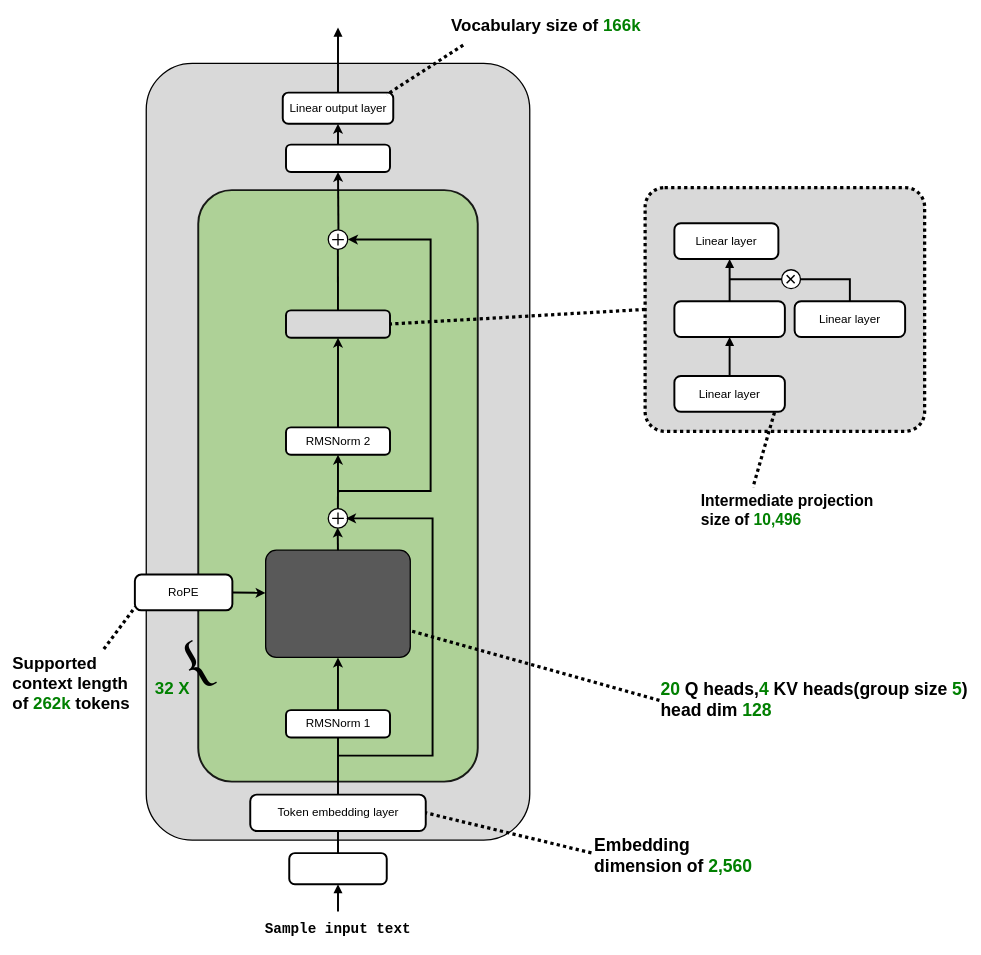
Some shapes in this 981 by 955 pixel diagram are drawn without their labels. Each missing label, with the centre of its shape:
"Feed forward" belongs at pixel 338 323.
"Final RMSNorm" belongs at pixel 338 158.
"Grouped-query attention" belongs at pixel 338 603.
"SiLU activation" belongs at pixel 729 319.
"Tokenized text" belongs at pixel 337 868.
